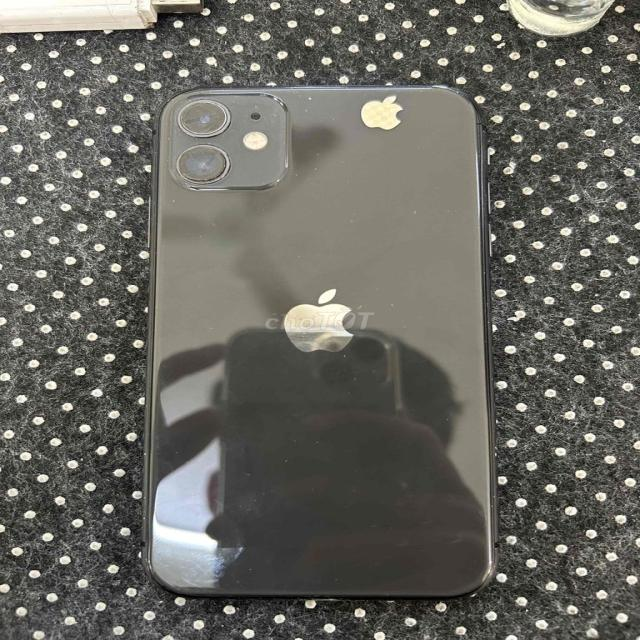scratch: (146, 531, 316, 599)
